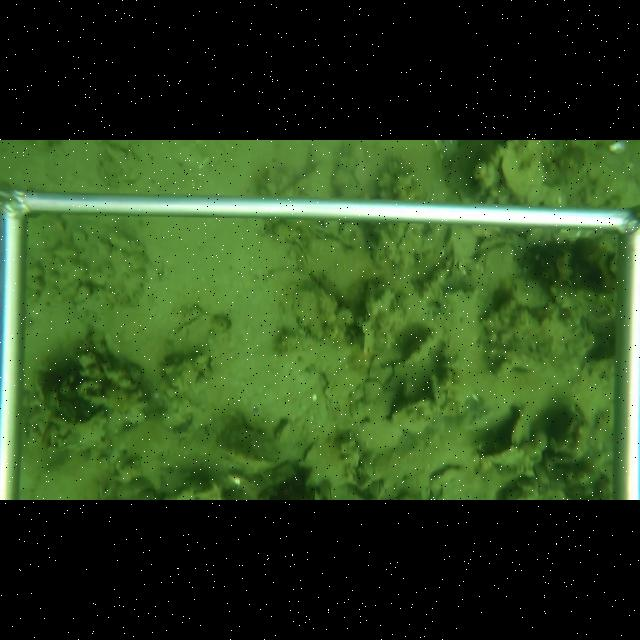Oyster-Closed: (358, 281, 394, 358), (399, 325, 440, 368), (285, 237, 313, 274), (400, 378, 415, 400)
